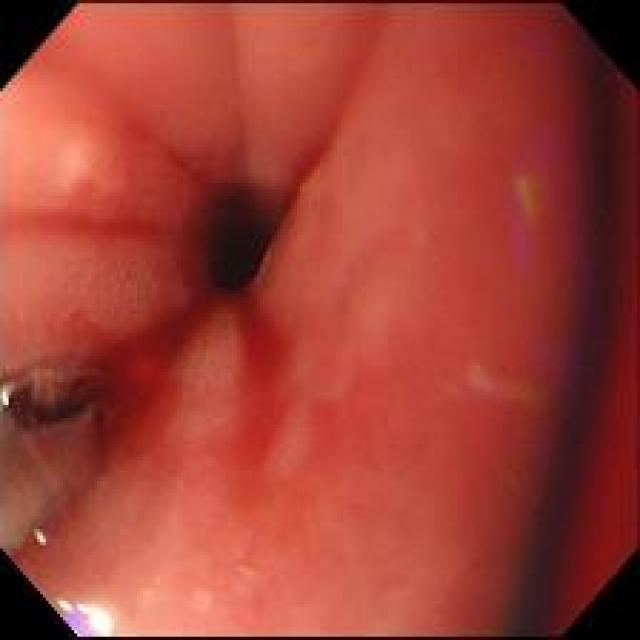blood: (122, 294, 214, 365), (234, 292, 270, 349)
color misalignment: (65, 607, 89, 636), (31, 524, 49, 546)
contrast: (204, 206, 270, 304)
instrument: (2, 368, 111, 549)
specularity: (76, 602, 113, 634), (56, 593, 72, 613), (0, 387, 12, 408)
